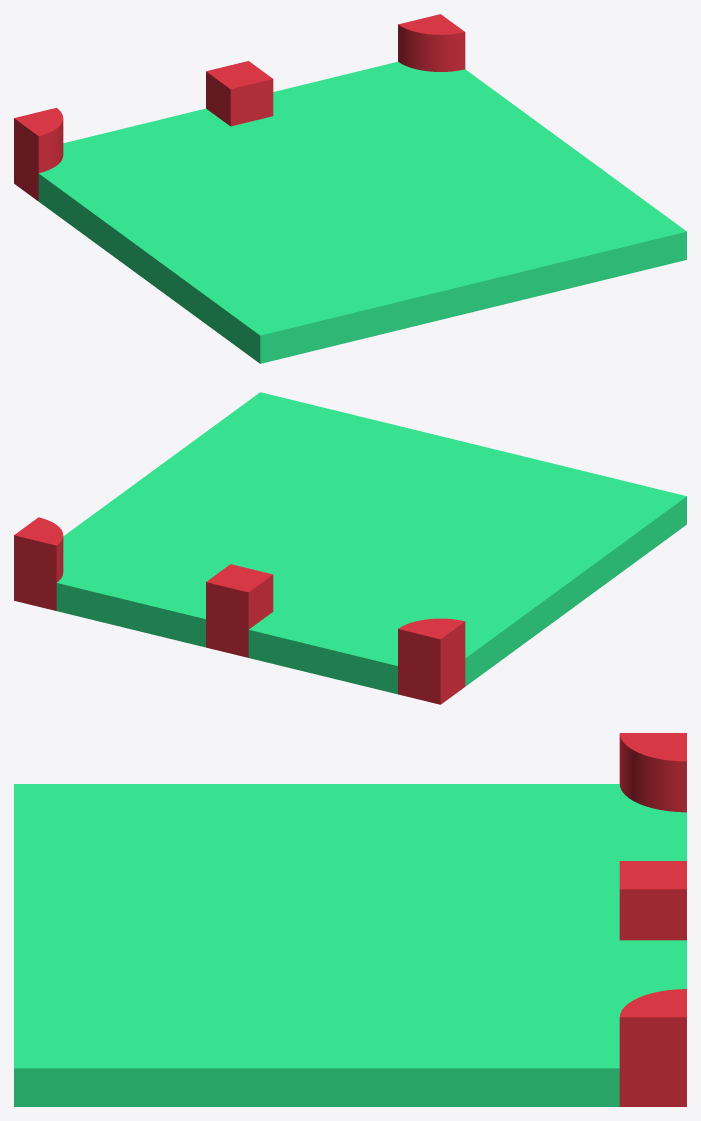
File: splitWallsToOpen.fbx
3 renders of one model, top to bottom at view 1: azimuth 30°, elevation 25°; view 2: azimuth 150°, elevation 25°; view 3: azimuth 270°, elevation 25°, orthographic. The views are drawn at different scales.
Parts seen in each view (by area): view 1: splitWallsToOpen; view 2: splitWallsToOpen; view 3: splitWallsToOpen.
Part boxes in pixels (x1,y1,x2,y2): splitWallsToOpen: (14, 14, 686, 363); splitWallsToOpen: (14, 392, 686, 704); splitWallsToOpen: (14, 733, 686, 1106).
Bounding box in the file's own units: 10 × 1.47 × 10.
